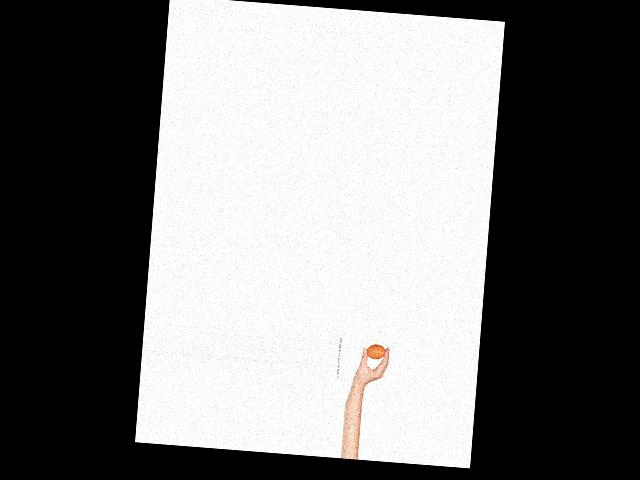egg: (365, 343, 386, 359)
